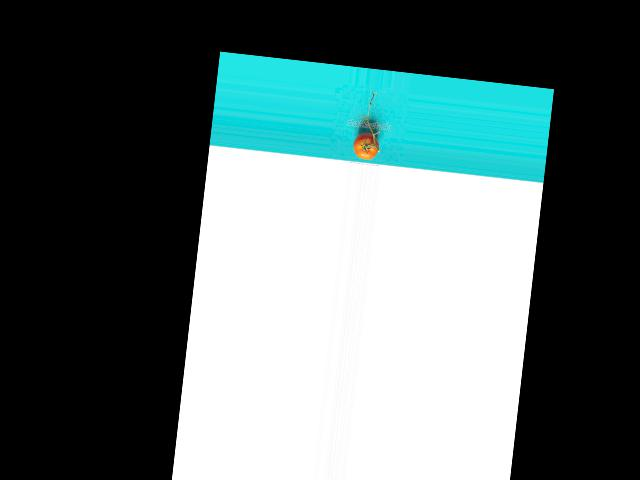tomato: (352, 132, 381, 160)
